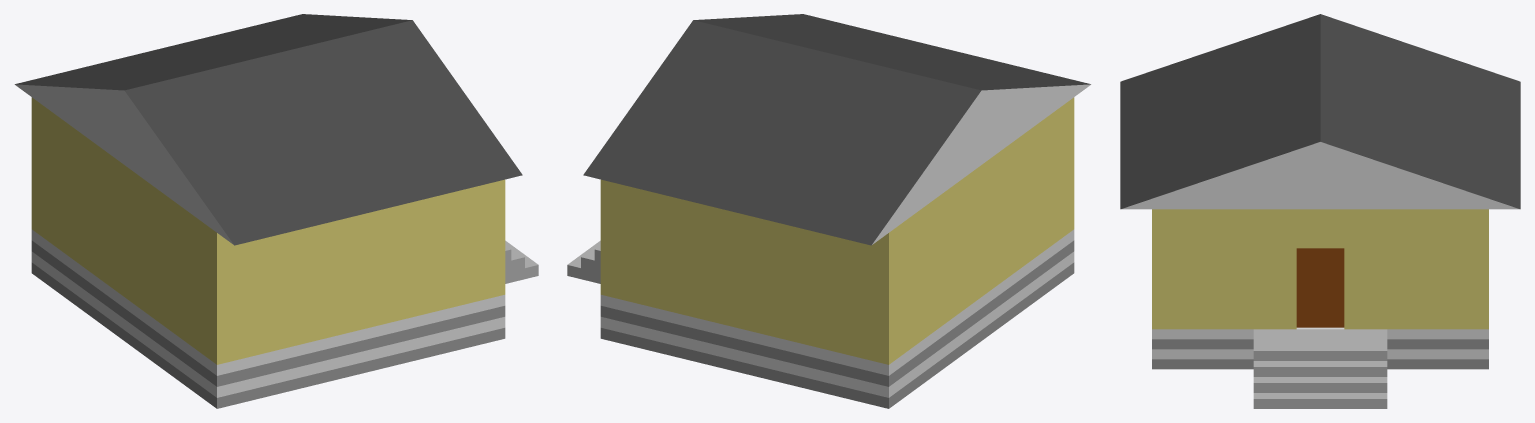
File: house yellow.fbx
3 renders of one model, left to right at view 1: azimuth 30°, elevation 25°; view 2: azimuth 150°, elevation 25°; view 3: azimuth 270°, elevation 25°, orthographic. The views are drawn at different scales.
Parts seen in each view (by area): view 1: House1; view 2: House1; view 3: House1.
Boxes of the visible parts, x1,y1,x2,y2 form: House1: [14, 14, 538, 408]; House1: [567, 14, 1091, 408]; House1: [1120, 14, 1520, 408].
Size of the model in its own units: 594 by 377 by 601.
